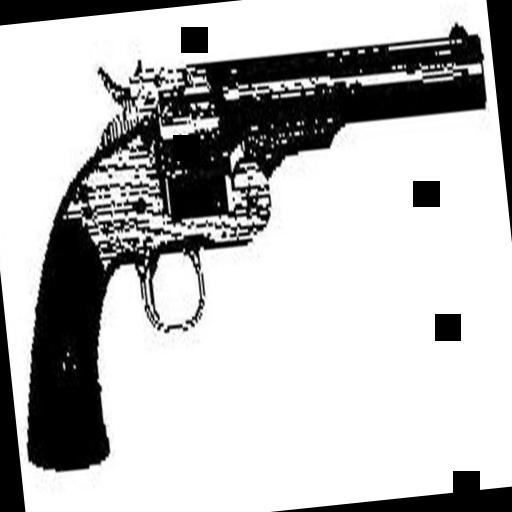Handgun: (0, 16, 512, 477)
